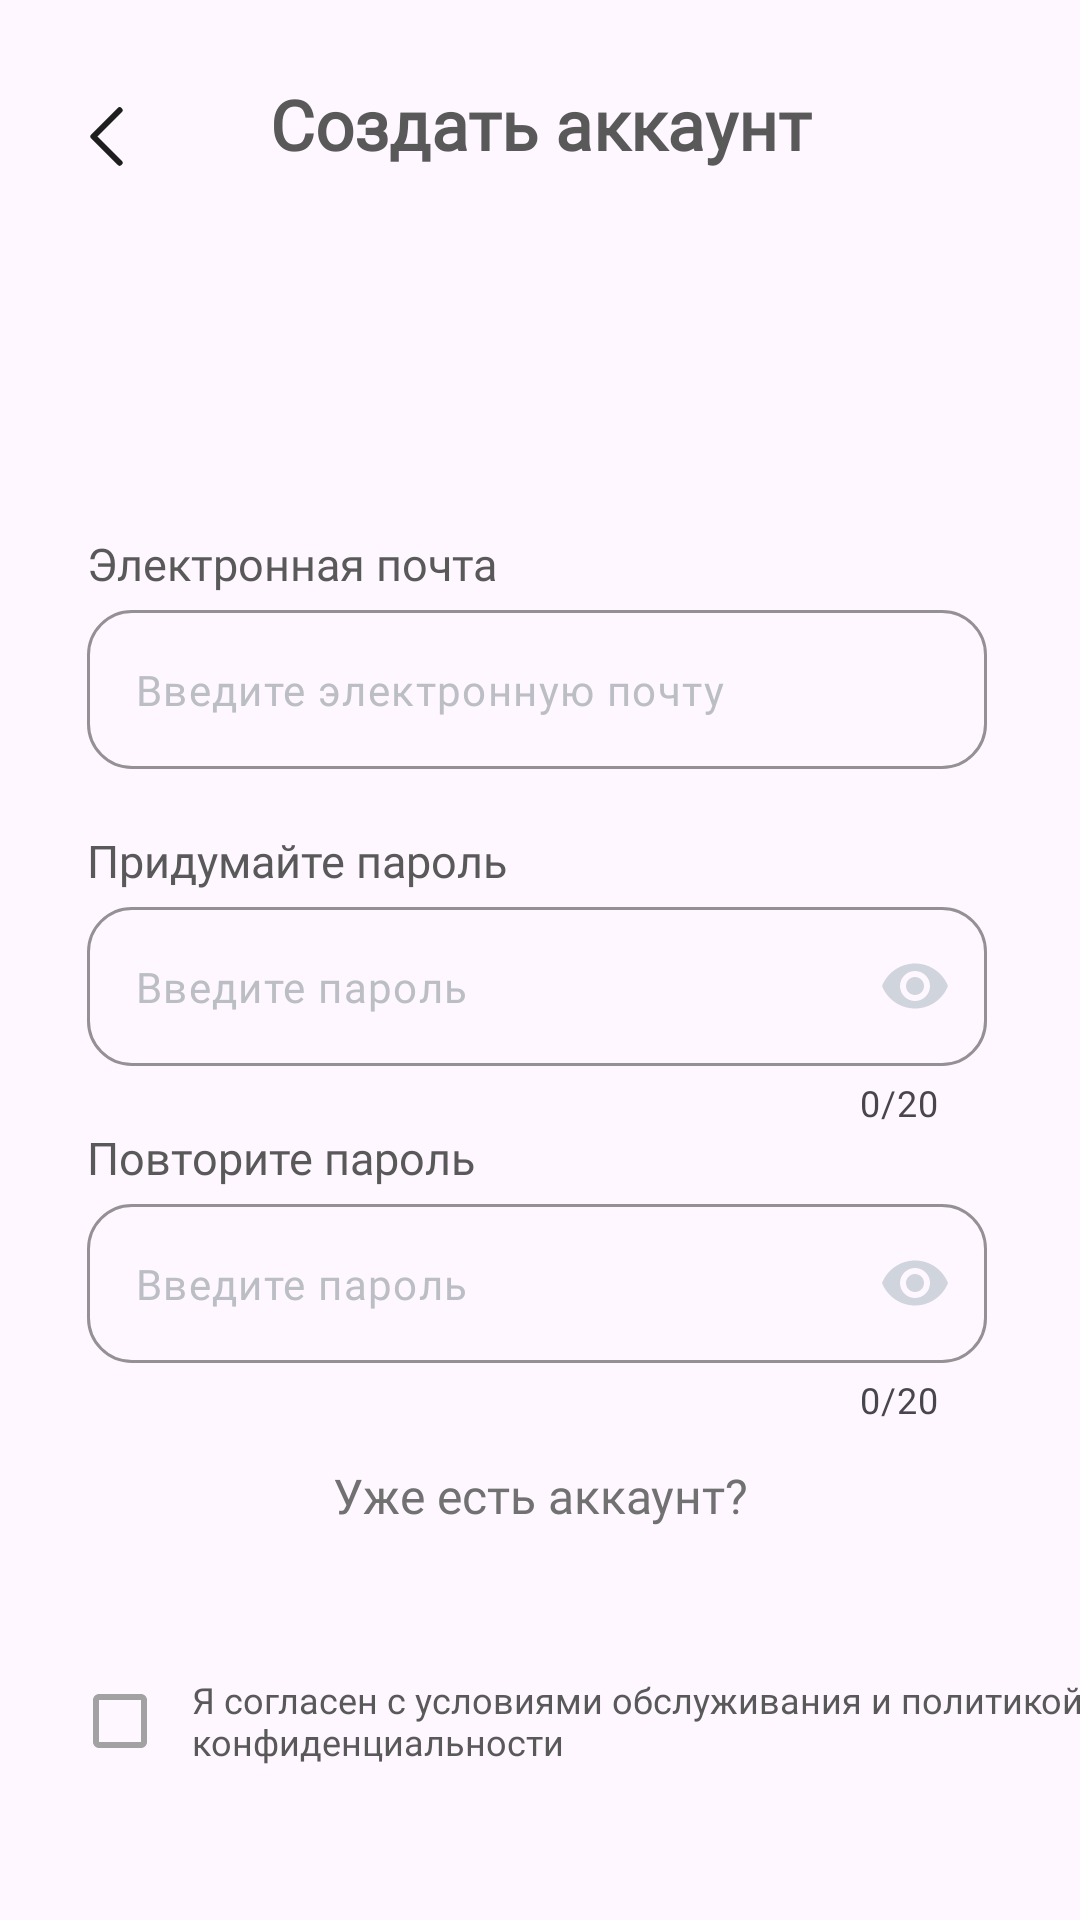

Where icons sit on this 1080*1920 app screen, as (x1, y1, x2, y2):
back: (90, 107, 123, 166)
